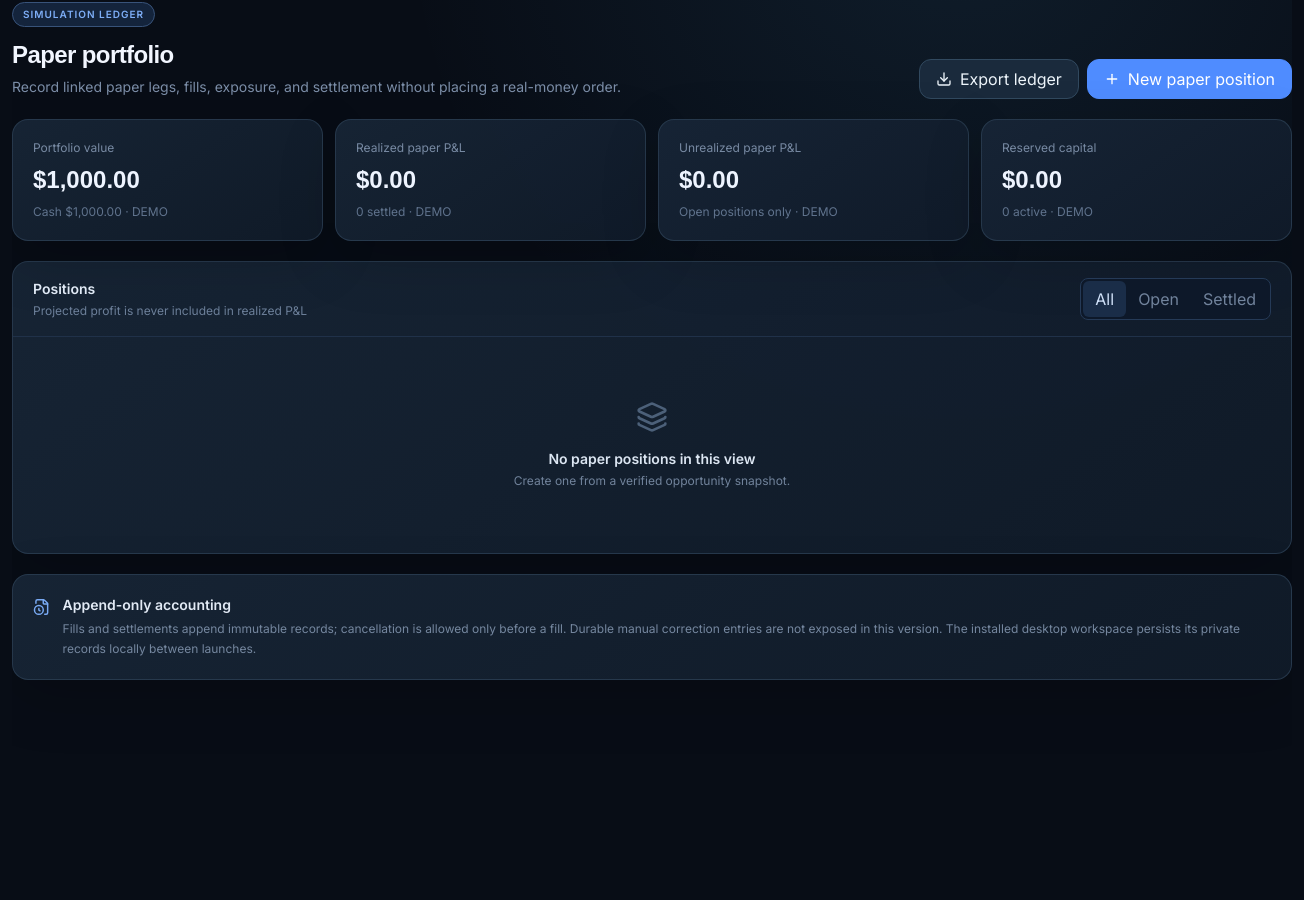
Test: paper-ledger export feedback › announces an export failure as an alert rather than a success notice
Click the button "Export ledger".
click(999, 79)  # box [919,59,1079,99]
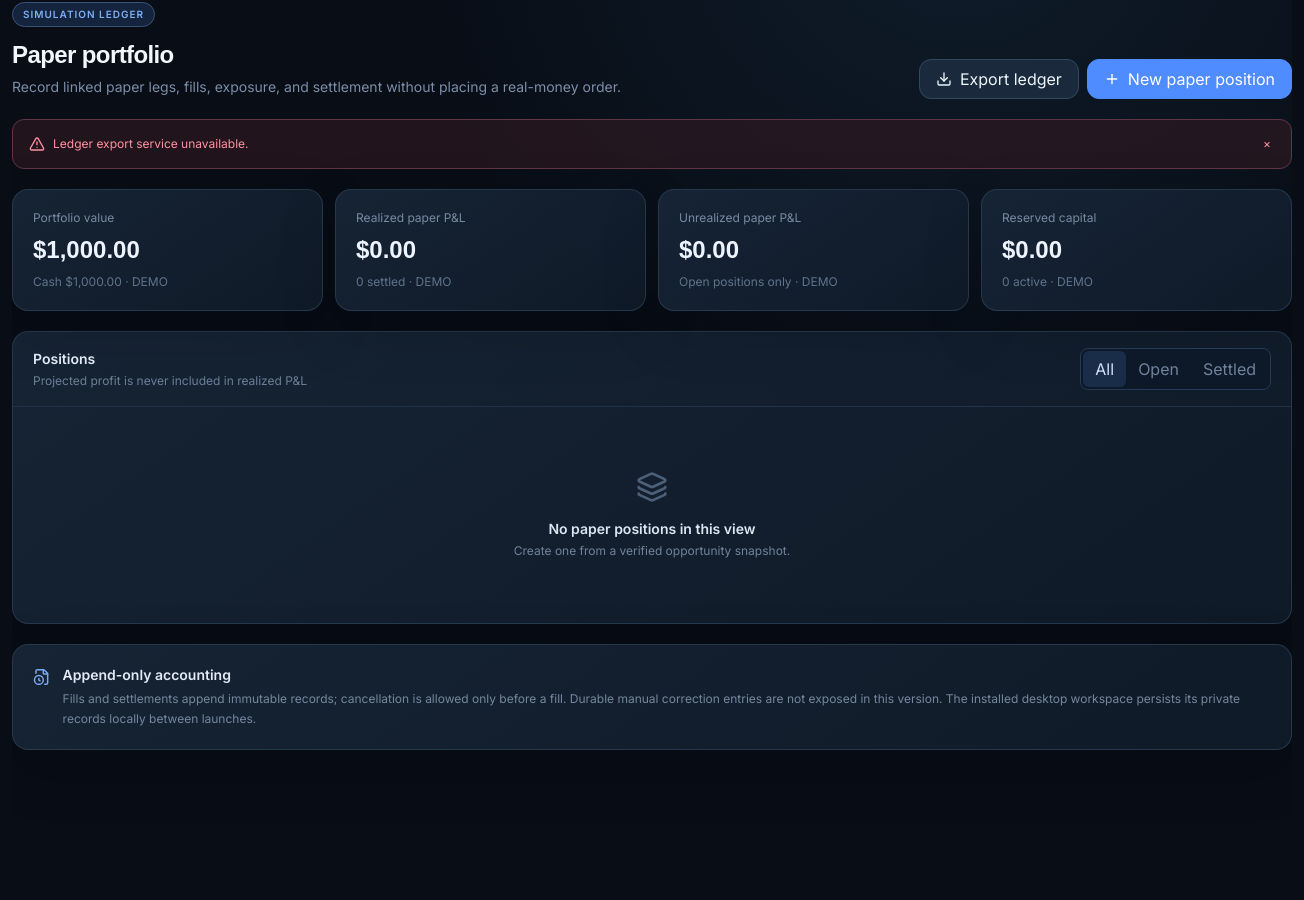
Now the message shows "Ledger export service unavailable.", box [53,136,248,151]
